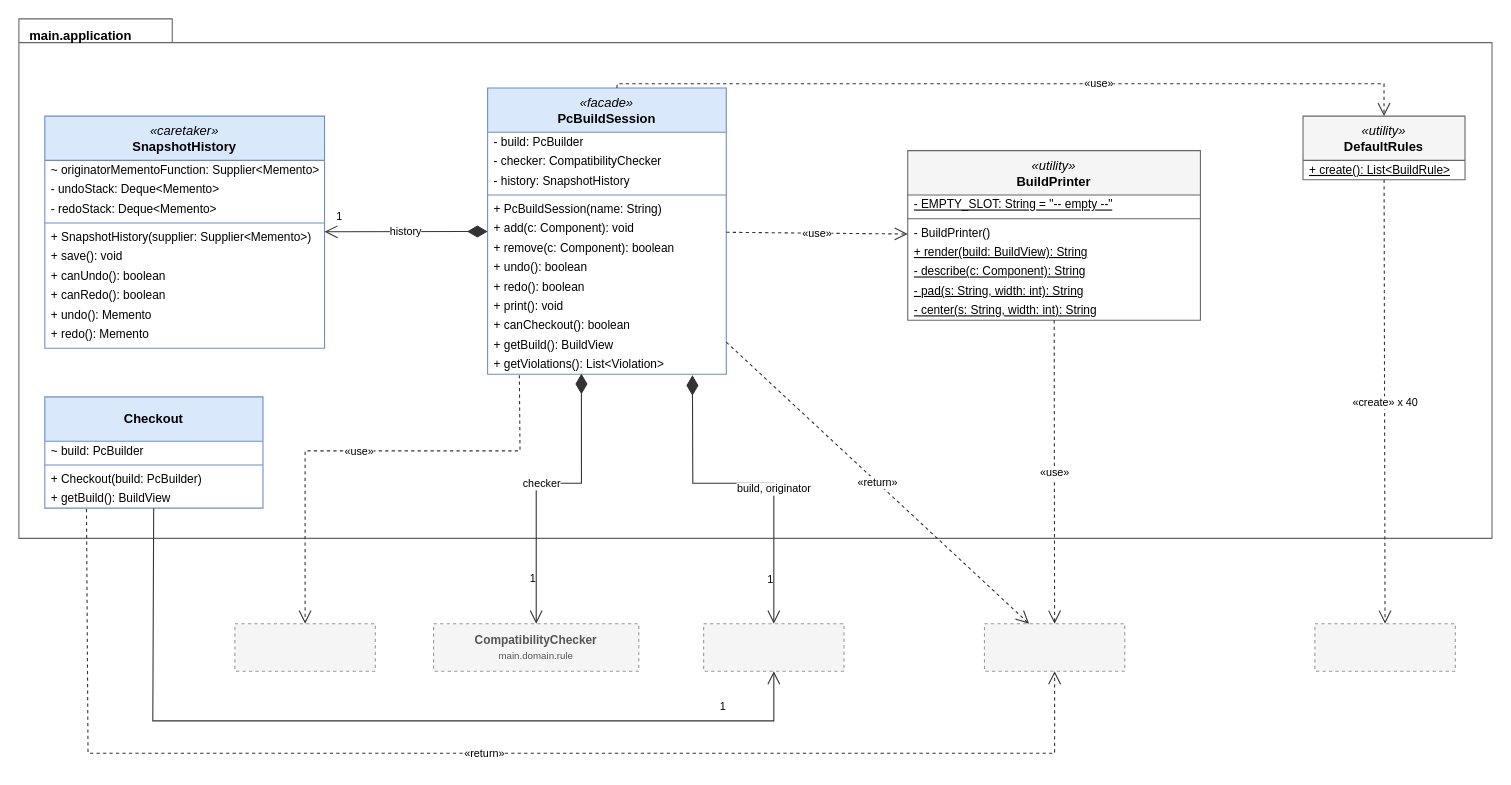
This 1511x785 diagram has some shape labels left out. The centre of each missing label's shape, as x and y in pixels:
"BuildRule main.domain.rule" goes at point 1384,647.
"BuildView main.domain.model" goes at point 1054,647.
"PcBuilder main.domain.model" goes at point 773,647.
"Violation main.domain.rule" goes at point 304,647.
